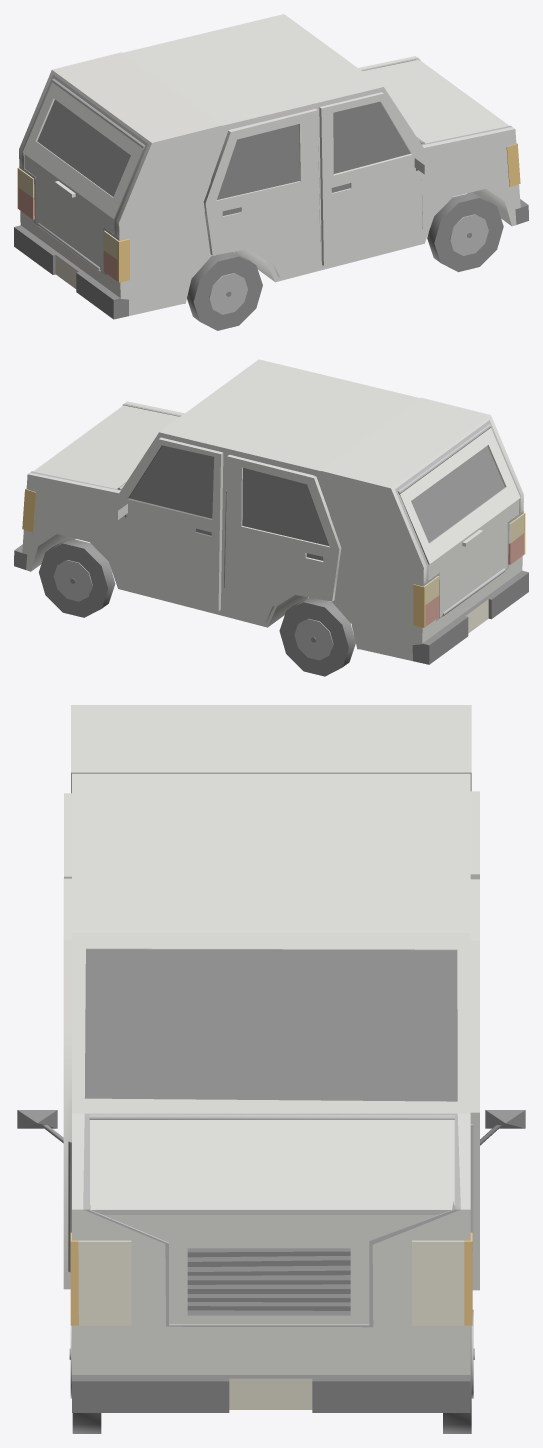
Rendered from kar23.fbx.
3 views of the same model, one above another, from view 1: azimuth 30°, elevation 25°; view 2: azimuth 150°, elevation 25°; view 3: azimuth 270°, elevation 25° (orthographic). The views are drawn at different scales.
Parts seen in each view (by area): view 1: Boole_2, Boole_3, Cylinder_3, Cylinder_1, Cylinder_4, Boole, Boole_1, Cylinder_6, Cylinder_9; view 2: Boole_2, Boole_3, Cylinder, Cylinder_5, Cylinder_4, Boole, Boole_1, Cylinder_7, Cylinder_8; view 3: Boole_2, Boole, Boole_3, Cylinder_5, Cylinder_1, Cylinder_7, Cylinder.
Part boxes in pixels (<box>): Boole_2: <box>14,14,528,319</box>; Boole_3: <box>19,52,221,303</box>; Cylinder_3: <box>203,108,320,277</box>; Cylinder_1: <box>319,92,424,265</box>; Cylinder_4: <box>22,78,145,219</box>; Boole: <box>362,60,509,144</box>; Boole_1: <box>24,154,114,272</box>; Cylinder_6: <box>427,192,503,272</box>; Cylinder_9: <box>187,252,262,330</box>; Boole_2: <box>14,359,528,664</box>; Boole_3: <box>321,397,523,649</box>; Cylinder: <box>223,454,341,623</box>; Cylinder_5: <box>118,437,223,611</box>; Cylinder_4: <box>397,424,520,564</box>; Boole: <box>33,405,179,489</box>; Boole_1: <box>428,499,518,617</box>; Cylinder_7: <box>38,538,115,617</box>; Cylinder_8: <box>279,597,355,676</box>; Boole_2: <box>70,773,472,1412</box>; Boole: <box>89,1114,454,1323</box>; Boole_3: <box>71,705,471,793</box>; Cylinder_5: <box>470,879,525,1290</box>; Cylinder_1: <box>17,878,71,1289</box>; Cylinder_7: <box>443,1309,474,1433</box>; Cylinder: <box>470,791,479,879</box>.
Bounding box in the file's own units: 457 × 215 × 242.
